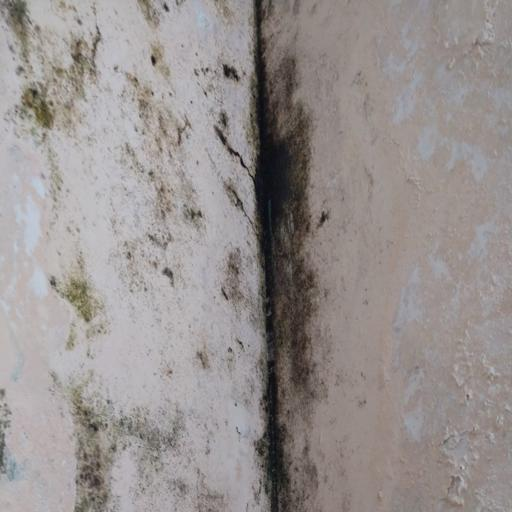algae: (94, 10, 366, 512)
